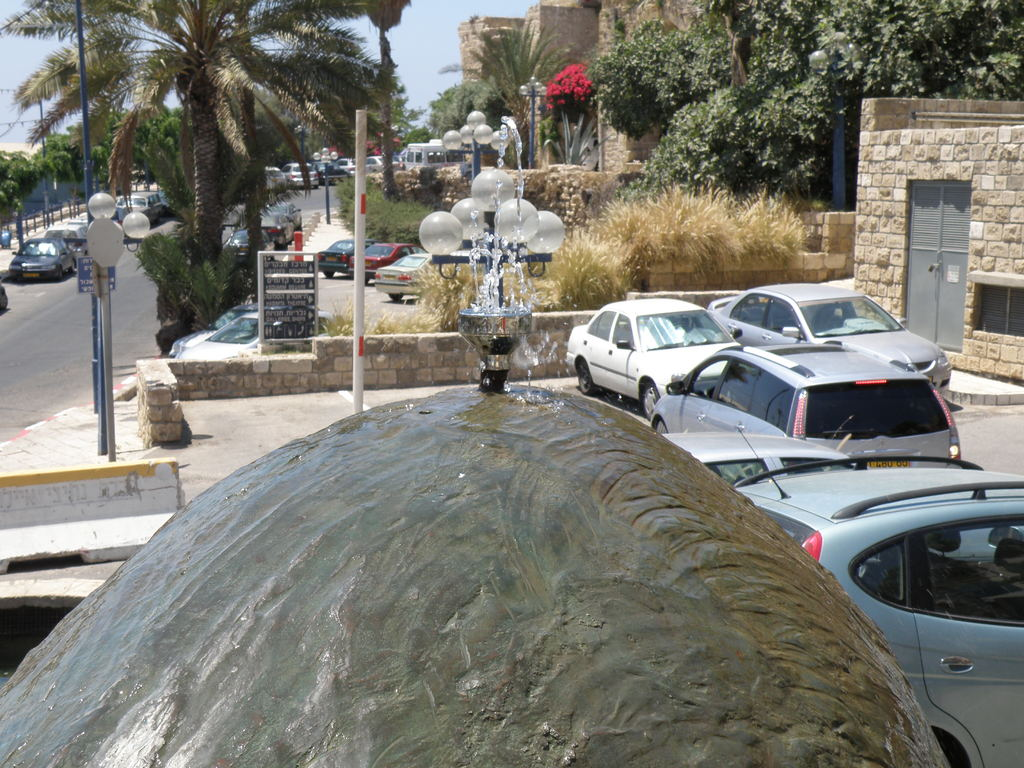Car: (561, 282, 1023, 767), (0, 142, 461, 359), (730, 428, 1023, 767), (650, 336, 956, 471), (701, 275, 954, 395), (558, 288, 749, 419), (655, 433, 872, 489)
